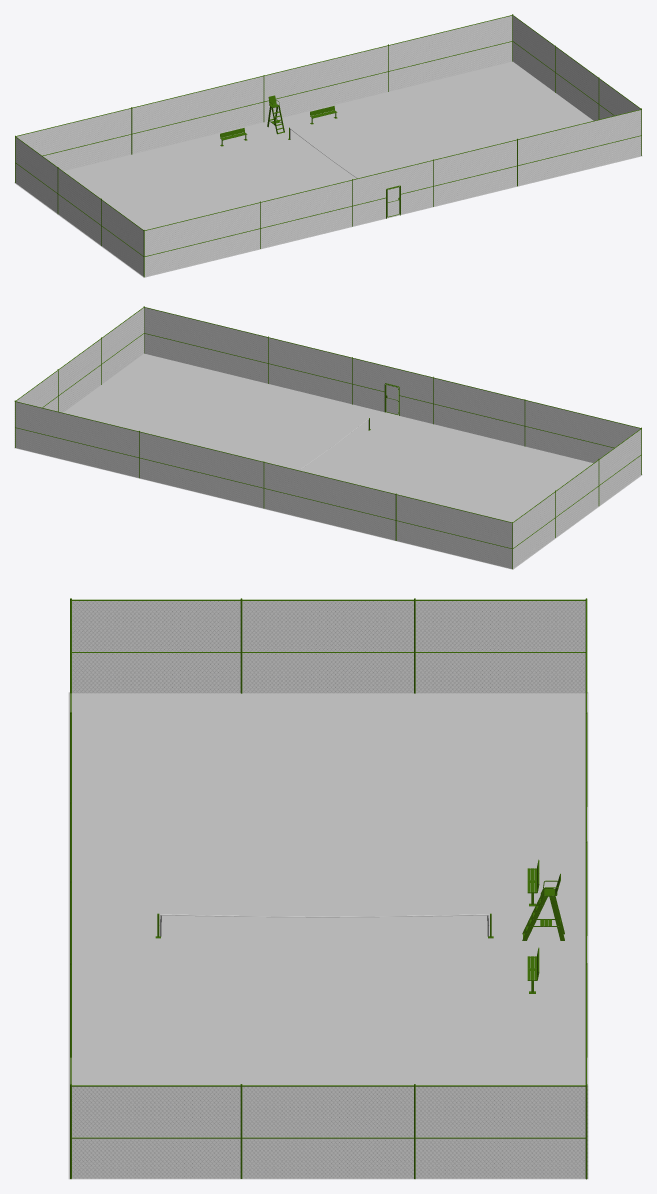
File: Tennis_Court.fbx
3 renders of one model, top to bottom at view 1: azimuth 30°, elevation 25°; view 2: azimuth 150°, elevation 25°; view 3: azimuth 270°, elevation 25°, orthographic. The views are drawn at different scales.
Parts seen in each view (by area): view 1: TC_Court, TC_Fence_04, TC_Fence_01, TC_Fence_02, TC_Fence_03; view 2: TC_Court, TC_Fence_01, TC_Fence_04, TC_Fence_02, TC_Fence_03, TC_Gate; view 3: TC_Court, TC_Fence_02, TC_Fence_03, TC_Fence_01, TC_Umpire_Chair, TC_Fence_04, TC_Net.
Part boxes in pixels (x1=…): TC_Court: x1=14, y1=61, x2=642, y2=277; TC_Fence_04: x1=144, y1=109, x2=641, y2=276; TC_Fence_01: x1=15, y1=15, x2=512, y2=170; TC_Fence_02: x1=15, y1=135, x2=144, y2=277; TC_Fence_03: x1=512, y1=14, x2=641, y2=155; TC_Court: x1=15, y1=353, x2=642, y2=569; TC_Fence_01: x1=15, y1=401, x2=512, y2=568; TC_Fence_04: x1=144, y1=307, x2=640, y2=462; TC_Fence_02: x1=512, y1=427, x2=641, y2=569; TC_Fence_03: x1=14, y1=306, x2=144, y2=447; TC_Gate: x1=385, y1=384, x2=398, y2=414; TC_Court: x1=68, y1=692, x2=588, y2=1179; TC_Fence_02: x1=70, y1=598, x2=587, y2=693; TC_Fence_03: x1=70, y1=1084, x2=588, y2=1179; TC_Fence_01: x1=585, y1=600, x2=587, y2=1083; TC_Umpire_Chair: x1=522, y1=873, x2=564, y2=940; TC_Fence_04: x1=70, y1=600, x2=71, y2=1083; TC_Net: x1=155, y1=913, x2=493, y2=938.
Bounding box in the file's own units: 9.26 × 0.8532 × 4.18.
